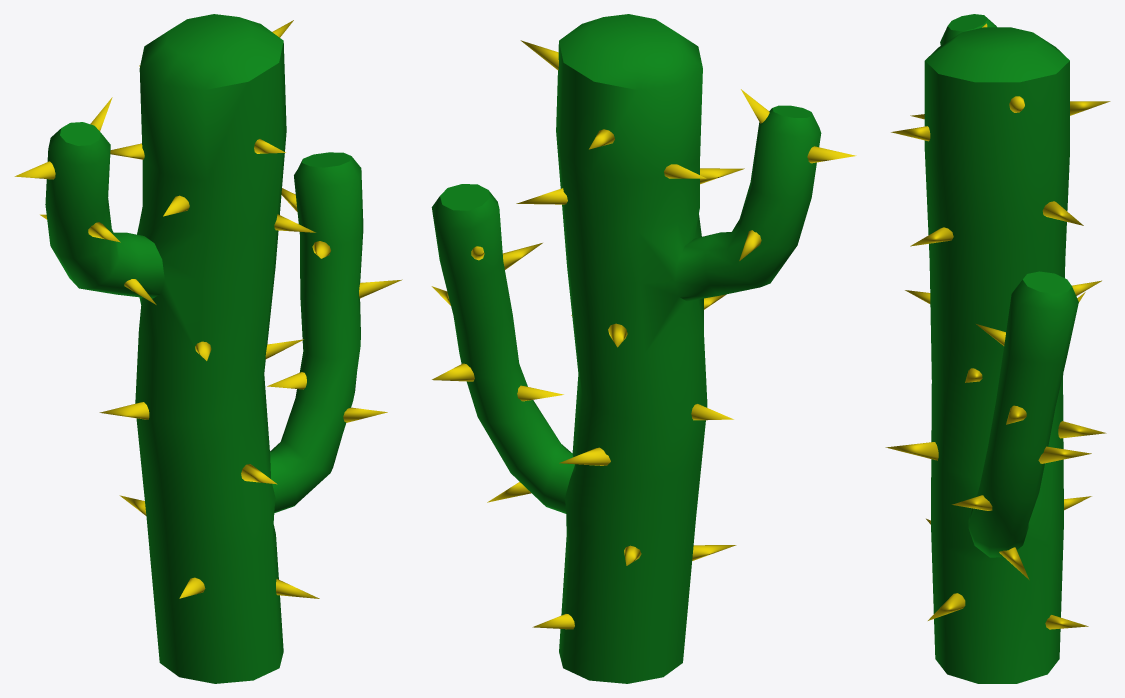
The model's file is cactus.fbx.
3 views of the same model, side by side, from view 1: azimuth 30°, elevation 25°; view 2: azimuth 150°, elevation 25°; view 3: azimuth 270°, elevation 25° (orthographic).
Parts seen in each view (by area): view 1: Cylinder, Cone; view 2: Cylinder, Cone; view 3: Cylinder, Cone.
Part boxes in pixels (x1=…): Cylinder: x1=45, y1=14, x2=363, y2=683; Cone: x1=14, y1=20, x2=402, y2=598; Cylinder: x1=431, y1=14, x2=821, y2=683; Cone: x1=431, y1=40, x2=856, y2=629; Cylinder: x1=924, y1=14, x2=1078, y2=683; Cone: x1=885, y1=23, x2=1110, y2=629.
Bounding box in the file's own units: 635 × 938 × 310.
